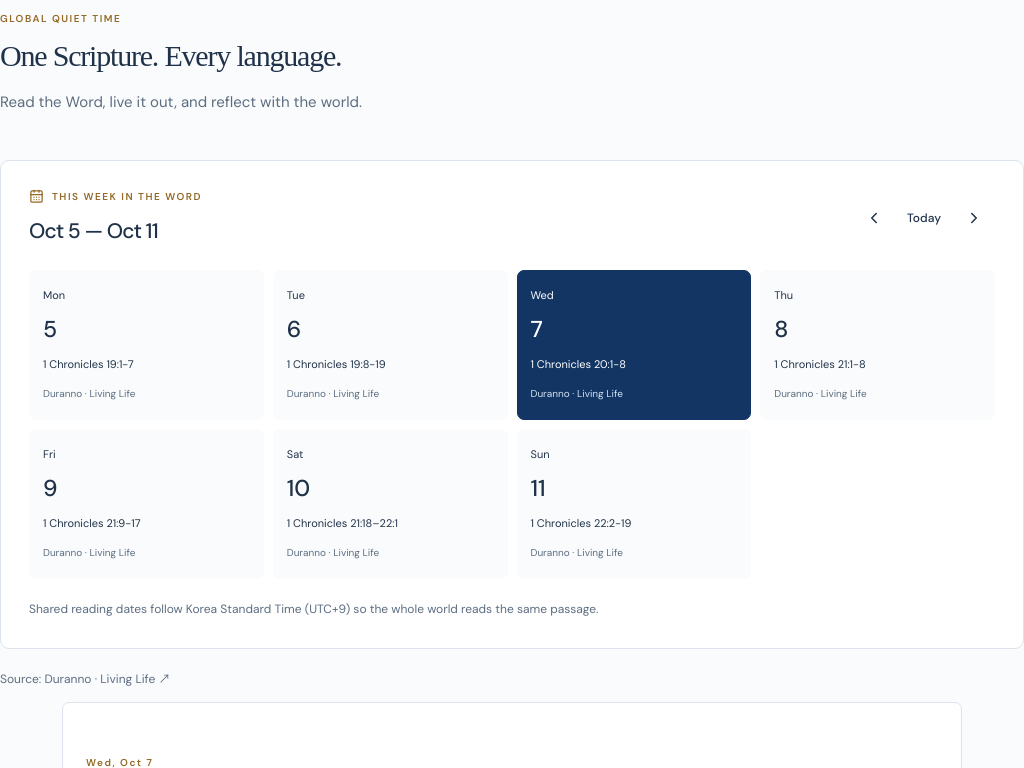
Test: updates the URL and reading together when choosing Previous week
This screenshot has width=1024, height=768.
Click the button named "Previous week".
click(874, 218)  # box [853,196,895,240]
(page scrolled)
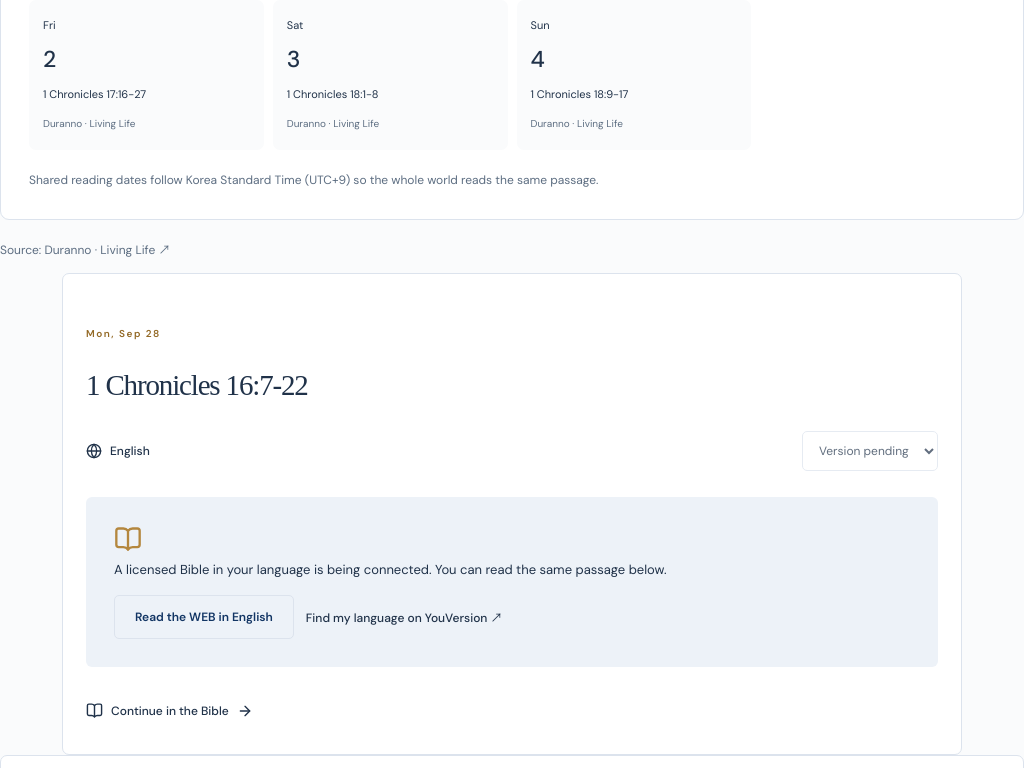
Result: the heading "1 Chronicles 16:7-22" is shown at [86,369,308,401]
